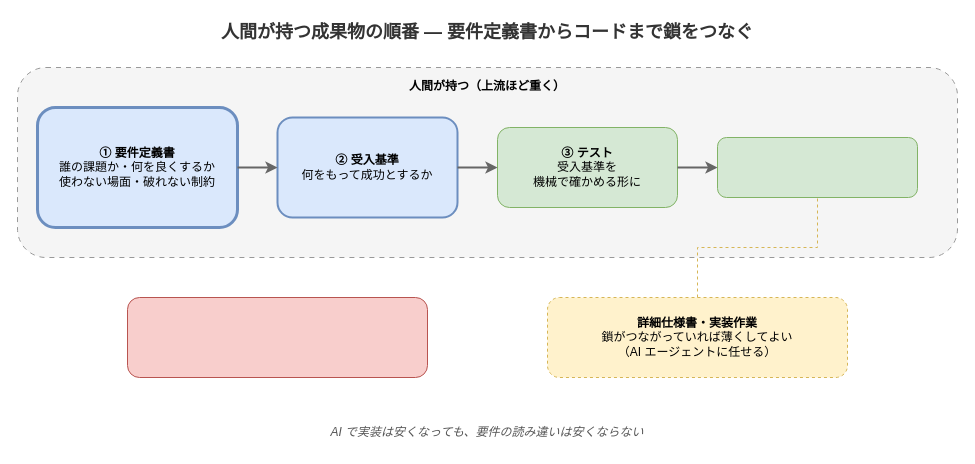
Some shapes in this 975 by 464 pixel diagram are drawn without their labels. The shapes that lost their labels are listed below. From the top down, each one's centre as x and y in pixels, then its label:
At pixel 817 167: "④ コード テストを通す実装".
At pixel 277 337: "最も危険 要件定義の裏付けがないまま コードだけが増えていく状態".
